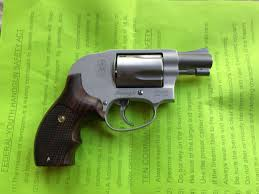gun: (34, 46, 216, 165)
